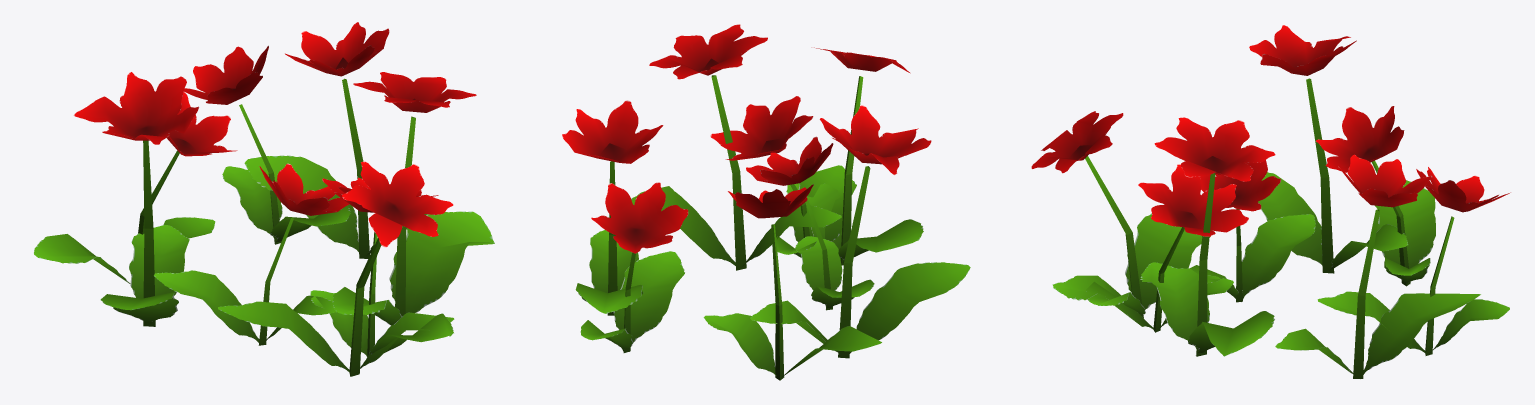
The model's file is Flower_4.fbx.
3 views of the same model, side by side, from view 1: azimuth 30°, elevation 25°; view 2: azimuth 150°, elevation 25°; view 3: azimuth 270°, elevation 25° (orthographic). The views are drawn at different scales.
Parts seen in each view (by area): view 1: Flower 4; view 2: Flower 4; view 3: Flower 4.
Boxes of the visible parts, left/top/right/bottom form: Flower 4: left=34, top=22, right=494, bottom=376; Flower 4: left=562, top=24, right=970, bottom=380; Flower 4: left=1031, top=25, right=1510, bottom=378.
Size of the model in its own units: 114 by 65.53 by 128.
